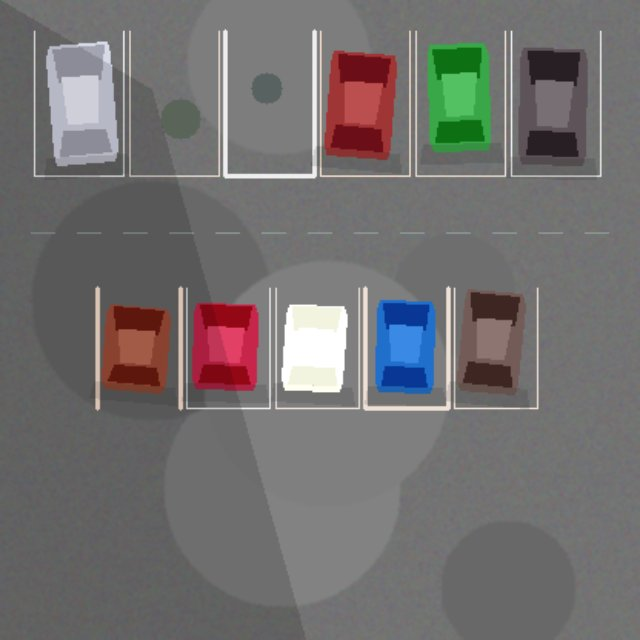space-empty: (129, 31, 218, 175), (225, 31, 314, 175)
space-occupied: (415, 31, 505, 175), (34, 31, 123, 175), (320, 31, 409, 175), (511, 31, 600, 175), (97, 288, 180, 408), (186, 288, 269, 408), (275, 288, 358, 408), (365, 288, 448, 408), (454, 288, 537, 408)
